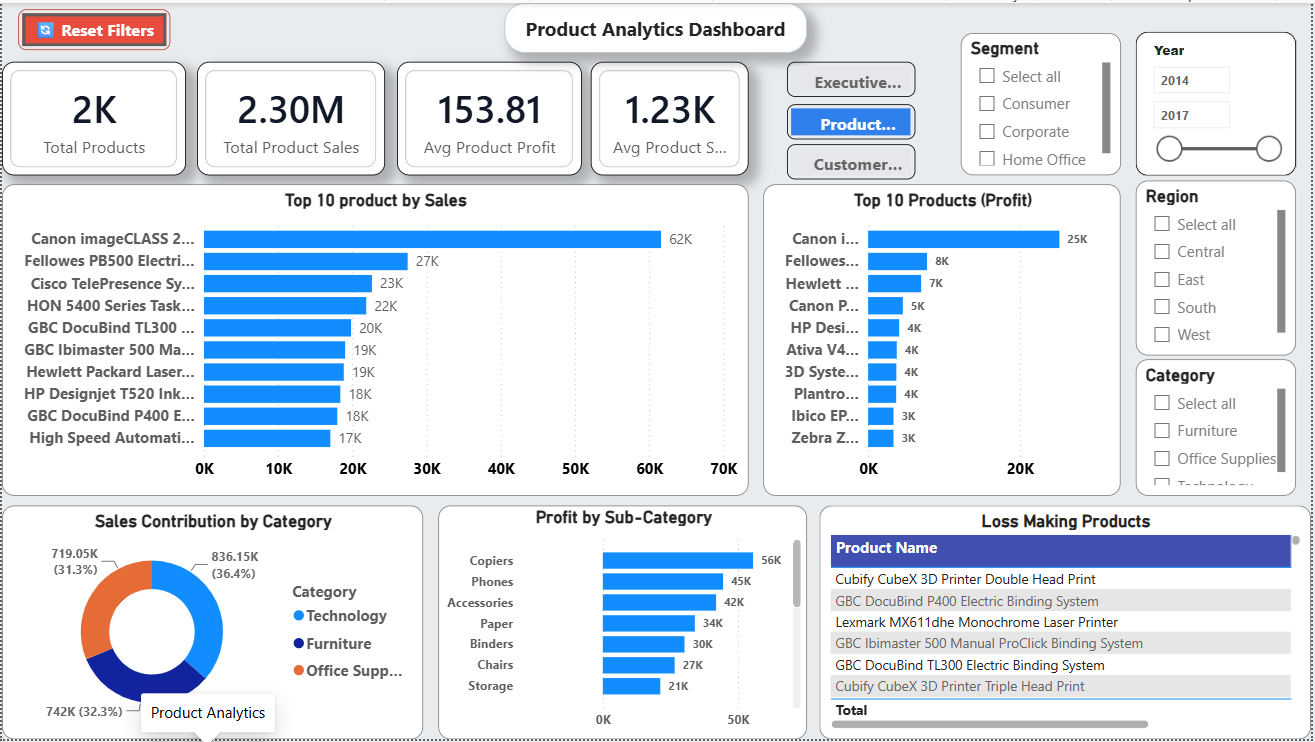

This screenshot's page, from the dashboard's own definition file:
{"tool":"powerbi","page":{"name":"Product Analytics","canvas":[1280,720],"ordinal":1},"visuals":[{"type":"cardVisual","fields":{"Data":["Date_Table.Total Products"]},"box":[0,57.5,179.8,111.3],"z":0},{"type":"cardVisual","fields":{"Data":["Date_Table.Total Product Sales"]},"box":[190.6,57,183.7,111.3],"z":1000},{"type":"cardVisual","fields":{"Data":["Date_Table.Avg Product Profit"]},"box":[386.8,57,180.9,111.3],"z":2000},{"type":"cardVisual","fields":{"Data":["Date_Table.Avg Product Sales"]},"box":[576,57,154.4,111.3],"z":3000},{"type":"textbox","box":[491.6,0,295.9,48.9],"z":4000},{"type":"clusteredBarChart","title":"Top 10 product by Sales","fields":{"Category":["Retail_Cleaned.Product Name"],"Y":["Sum(Retail_Cleaned.Sales)"]},"box":[0,177.3,730,304.5],"z":5000},{"type":"clusteredBarChart","title":"Top 10 Products (Profit)","fields":{"Category":["Retail_Cleaned.Product Name"],"Y":["Sum(Retail_Cleaned.Profit)"]},"box":[744.7,177.3,349.7,304.5],"z":6000},{"type":"donutChart","title":"Sales Contribution by Category","fields":{"Category":["Retail_Cleaned.Category"],"Y":["Sum(Retail_Cleaned.Sales)"]},"box":[0,491.6,412.1,228.7],"z":7000},{"type":"clusteredBarChart","title":"Profit by Sub-Category","fields":{"Category":["Retail_Cleaned.Sub-Category"],"Y":["Sum(Retail_Cleaned.Profit)"]},"box":[426.8,491.6,360.7,228.7],"z":8000},{"type":"tableEx","title":"Loss Making Products","fields":{"Values":["Retail_Cleaned.Product Name","Sum(Retail_Cleaned.Sales)","Sum(Retail_Cleaned.Profit)"]},"box":[799.7,491.6,480.6,228.7],"z":9000},{"type":"slicer","fields":{"Values":["Retail_Cleaned.Year"]},"box":[1109.1,28.1,156.5,140.6],"z":10000},{"type":"slicer","title":"Region","fields":{"Values":["Retail_Cleaned.Region"]},"box":[1109.1,173,156.5,171.2],"z":11000},{"type":"slicer","title":"Category","fields":{"Values":["Retail_Cleaned.Category"]},"box":[1109.1,348.5,156.5,133.3],"z":12000},{"type":"slicer","title":"Segment","fields":{"Values":["Retail_Cleaned.Segment"]},"box":[937.9,29.3,156.5,139.4],"z":13000},{"type":"actionButton","box":[768,57,125.2,34.8],"z":14000},{"type":"actionButton","box":[768,98.8,125.2,34.8],"z":15000},{"type":"actionButton","box":[768,137.7,125.2,34.8],"z":16000},{"type":"actionButton","box":[15.3,5.6,148.9,40.3],"z":17000}]}

Visuals, with their boxes in screenshot pixels (x1, y1, x2, y2), scaled from the page's 1280x720 canvas onto the 1315x742 screenshot:
cardVisual - Date_Table.Total Products: (left=0, top=59, right=185, bottom=174)
cardVisual - Date_Table.Total Product Sales: (left=196, top=59, right=385, bottom=173)
cardVisual - Date_Table.Avg Product Profit: (left=397, top=59, right=583, bottom=173)
cardVisual - Date_Table.Avg Product Sales: (left=592, top=59, right=750, bottom=173)
textbox: (left=505, top=0, right=809, bottom=50)
"Top 10 product by Sales" clusteredBarChart: (left=0, top=183, right=750, bottom=497)
"Top 10 Products (Profit)" clusteredBarChart: (left=765, top=183, right=1124, bottom=497)
"Sales Contribution by Category" donutChart: (left=0, top=507, right=423, bottom=741)
"Profit by Sub-Category" clusteredBarChart: (left=438, top=507, right=809, bottom=741)
"Loss Making Products" tableEx: (left=822, top=507, right=1314, bottom=741)
slicer - Retail_Cleaned.Year: (left=1139, top=29, right=1300, bottom=174)
"Region" slicer: (left=1139, top=178, right=1300, bottom=355)
"Category" slicer: (left=1139, top=359, right=1300, bottom=497)
"Segment" slicer: (left=964, top=30, right=1124, bottom=174)
actionButton: (left=789, top=59, right=918, bottom=95)
actionButton: (left=789, top=102, right=918, bottom=138)
actionButton: (left=789, top=142, right=918, bottom=178)
actionButton: (left=16, top=6, right=169, bottom=47)
